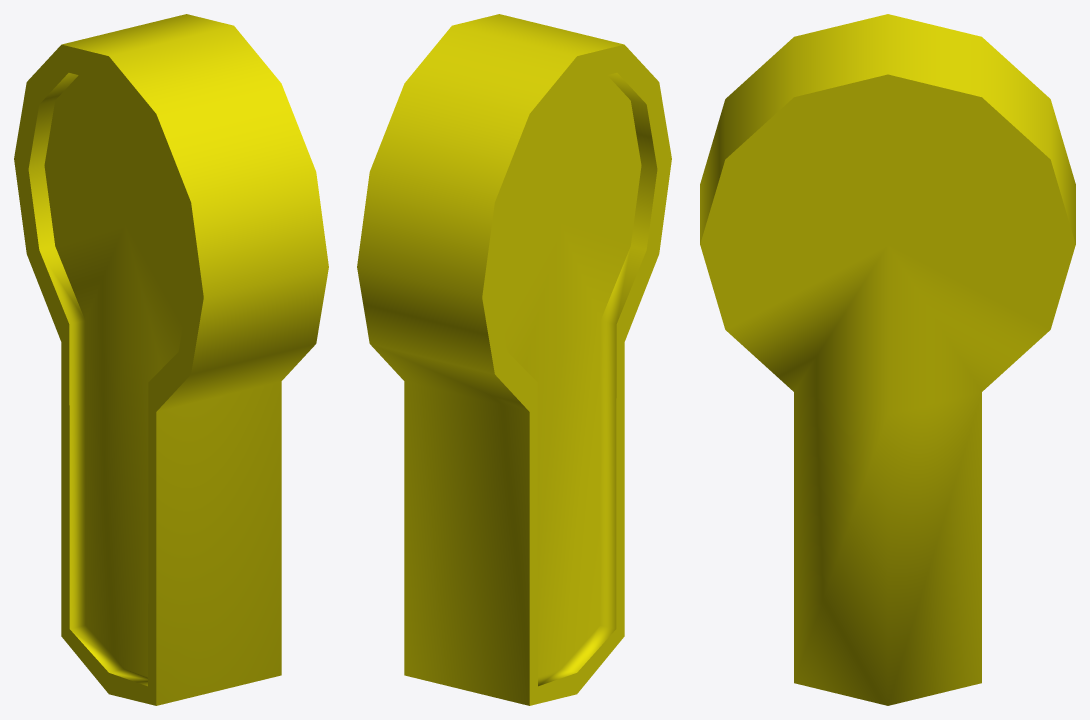
File: Door_01_Lock.fbx
3 renders of one model, left to right at view 1: azimuth 30°, elevation 25°; view 2: azimuth 150°, elevation 25°; view 3: azimuth 270°, elevation 25°, orthographic.
Visible parts, largest first — view 1: Door_01_Lock; view 2: Door_01_Lock; view 3: Door_01_Lock.
Part boxes in pixels (bbox=[...]): Door_01_Lock: bbox=[14, 14, 328, 705]; Door_01_Lock: bbox=[357, 14, 671, 705]; Door_01_Lock: bbox=[700, 14, 1075, 705].
Bounding box in the file's own units: 1.33 × 6.48 × 3.49.
